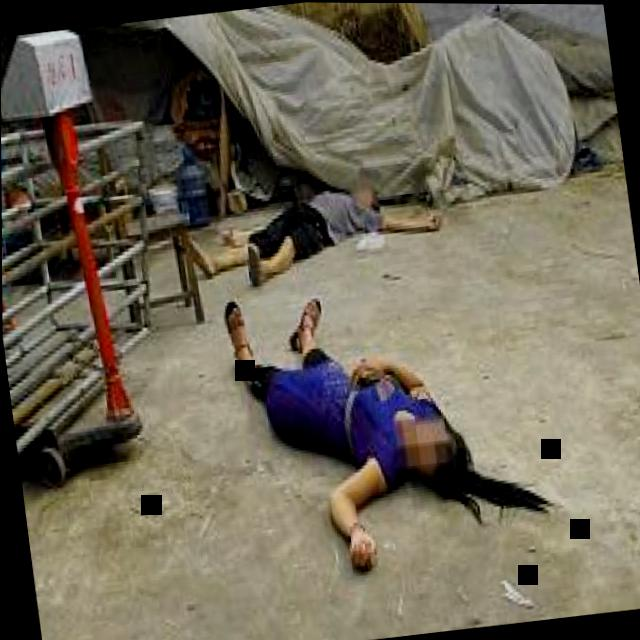Fall-Detected: (179, 147, 450, 295)
